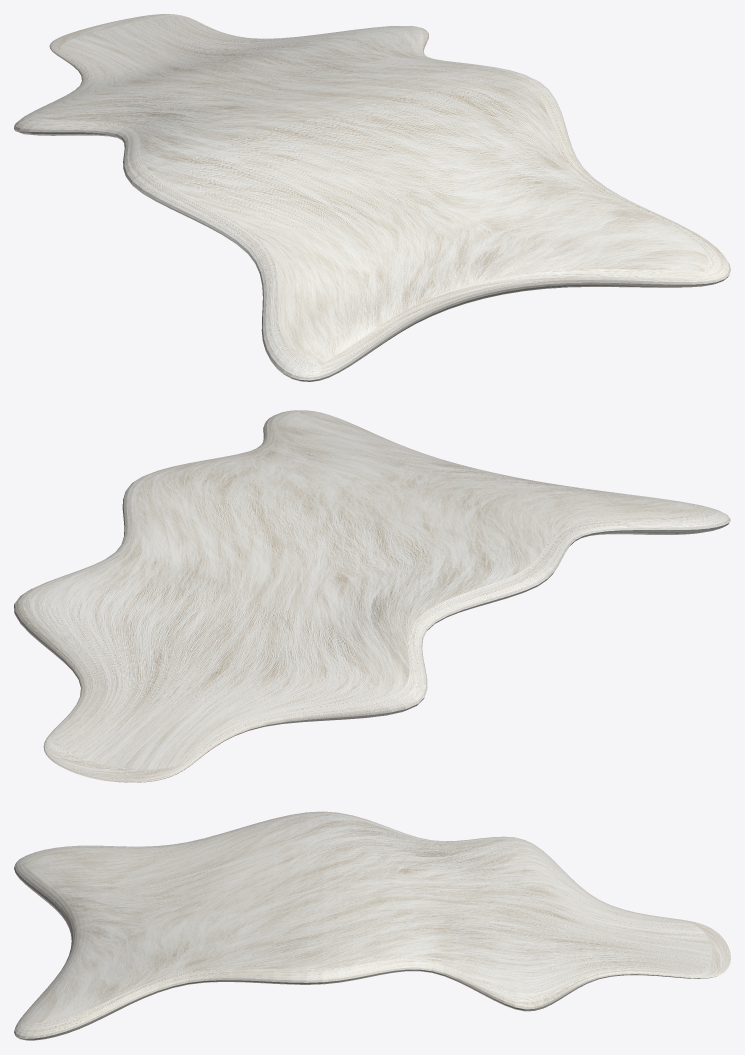
The model's file is fur2.glb.
3 views of the same model, one above another, from view 1: azimuth 30°, elevation 25°; view 2: azimuth 150°, elevation 25°; view 3: azimuth 270°, elevation 25° (orthographic). The views are drawn at different scales.
Parts seen in each view (by area): view 1: Cube; view 2: Cube; view 3: Cube.
Boxes of the visible parts, x1,y1,x2,y2 form: Cube: (14,14,730,381); Cube: (14,410,730,782); Cube: (14,811,730,1040).
Bounding box in the file's own units: 1.72 × 0.3004 × 2.81.
Materials: 1 (1 with a texture image).
